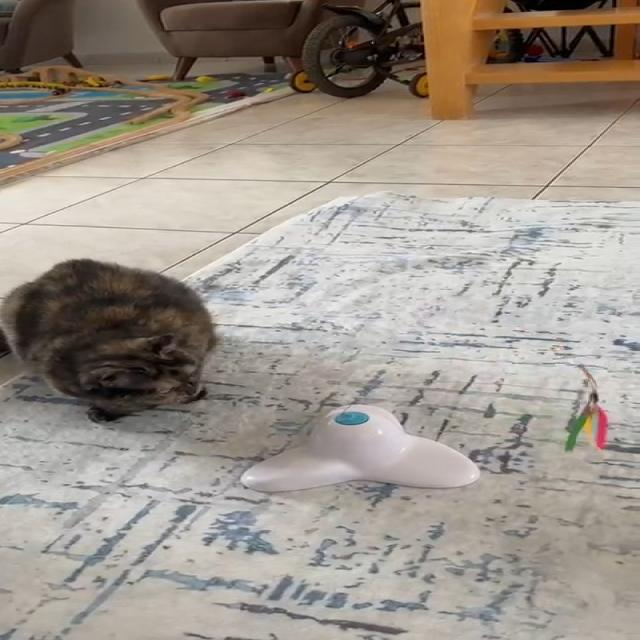authorized: (0, 257, 219, 423)
